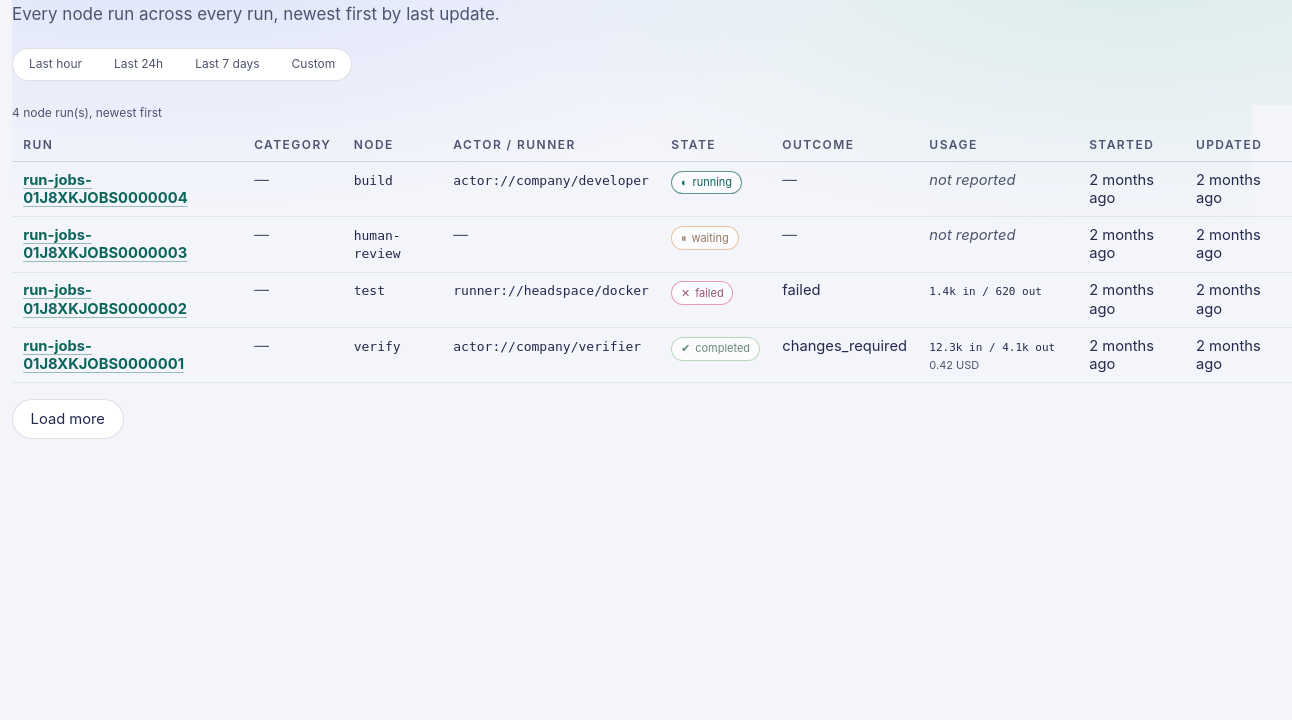
Scenario: JobsTimeline load more (cursor pagination) › appends the next page and carries the cursor on the request
Expected: the table is shown, [12,105,1291,383]
Click the button "Load more": coordinates (68, 419) [12,399,124,439]
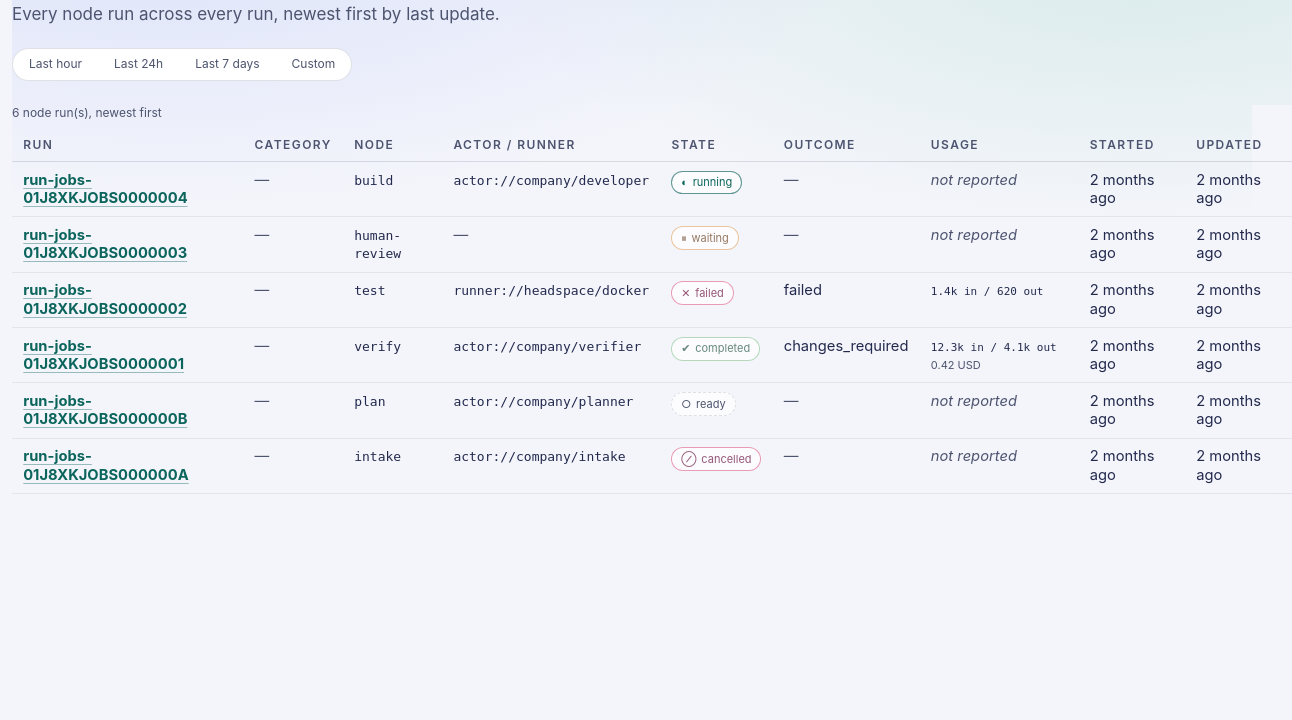
Now the link "run-jobs-01J8XKJOBS000000B" is shown, box [23,392,187,428]
Now the link "run-jobs-01J8XKJOBS000000A" is shown, box [23,447,189,484]
Now the button "Load more" is gone
